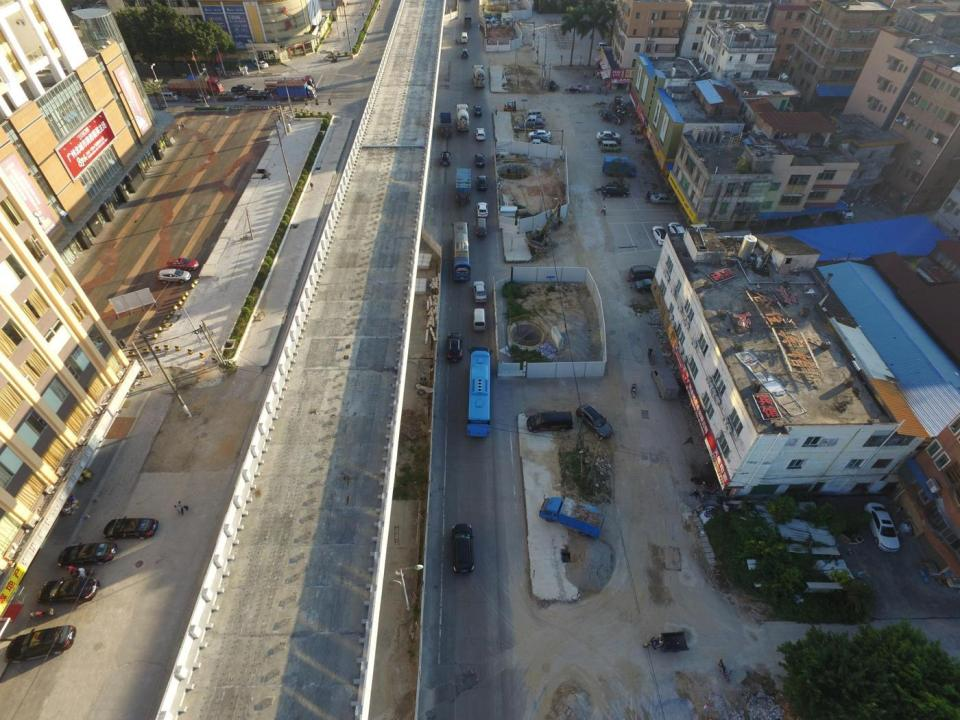bus: (466, 346, 492, 437), (450, 221, 472, 282)
car: (5, 624, 77, 664), (864, 500, 900, 552), (35, 578, 99, 606), (57, 542, 118, 566), (575, 403, 614, 440), (102, 516, 158, 541), (451, 523, 475, 575), (158, 268, 190, 285), (446, 333, 463, 362), (667, 221, 687, 243), (628, 265, 659, 279), (166, 257, 199, 270), (602, 184, 631, 198), (634, 278, 660, 293), (472, 280, 488, 303), (836, 200, 854, 220), (649, 192, 676, 205), (651, 225, 668, 245), (245, 88, 267, 102), (186, 91, 210, 103), (597, 130, 621, 142), (231, 84, 253, 93), (599, 137, 621, 146), (477, 202, 488, 218), (477, 174, 488, 190), (529, 135, 551, 143), (528, 129, 552, 136), (440, 151, 451, 166), (254, 59, 270, 69), (475, 153, 486, 167), (475, 127, 486, 141), (473, 104, 483, 117), (461, 49, 469, 59)
truck: (538, 494, 607, 540), (167, 75, 225, 97), (263, 75, 317, 95), (651, 368, 678, 400), (275, 80, 316, 101), (454, 166, 472, 206), (602, 156, 636, 177), (455, 103, 469, 132), (438, 113, 452, 139), (472, 64, 485, 88), (529, 139, 552, 152), (518, 121, 544, 131), (525, 114, 547, 125), (463, 12, 472, 28)
van: (527, 412, 574, 434), (472, 307, 486, 332), (600, 140, 621, 154), (217, 90, 239, 102), (475, 218, 488, 238), (159, 92, 179, 102), (524, 108, 543, 118), (596, 41, 612, 50), (461, 32, 468, 43)
